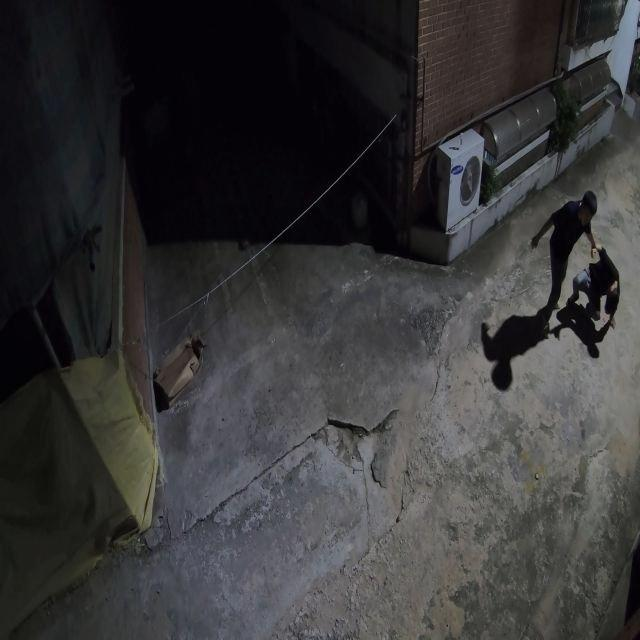fight: (530, 188, 626, 332)
